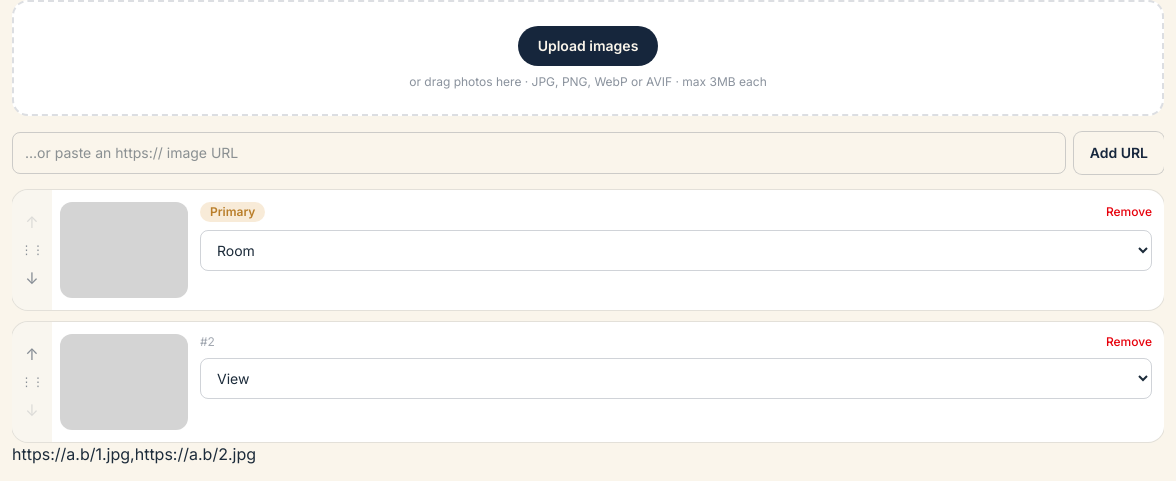
Scenario: ImageManager › deletes an image and lets the next one become primary
The width and height of the screenshot is (1176, 481).
Click the button with aria-label "remove image": coordinates (1129, 212) [1106, 204, 1152, 220]
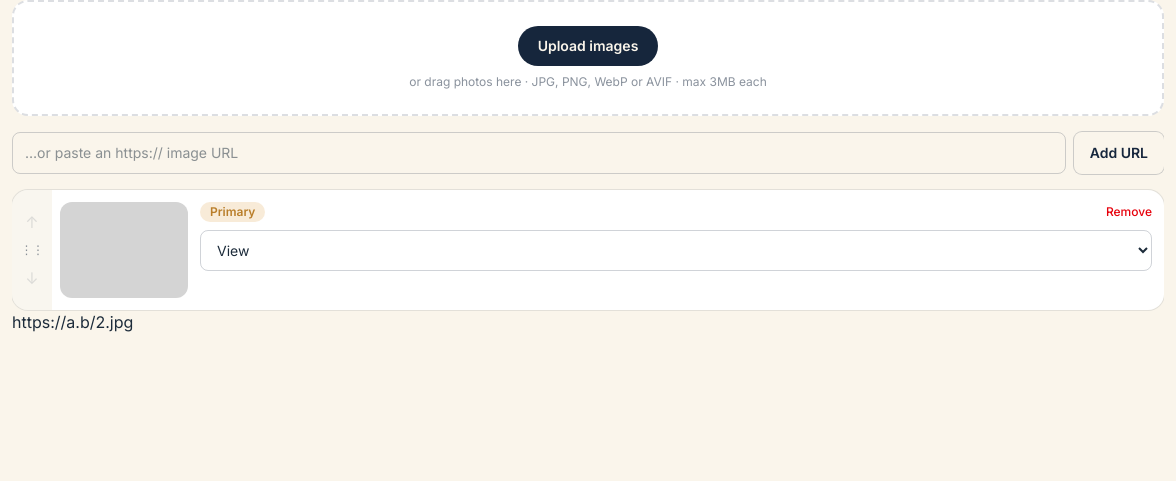
Expected: the text "Primary" is shown, [200, 202, 265, 222]
Expected: the text with test id "imgs" reads "https://a.b/2.jpg", [12, 312, 133, 332]
